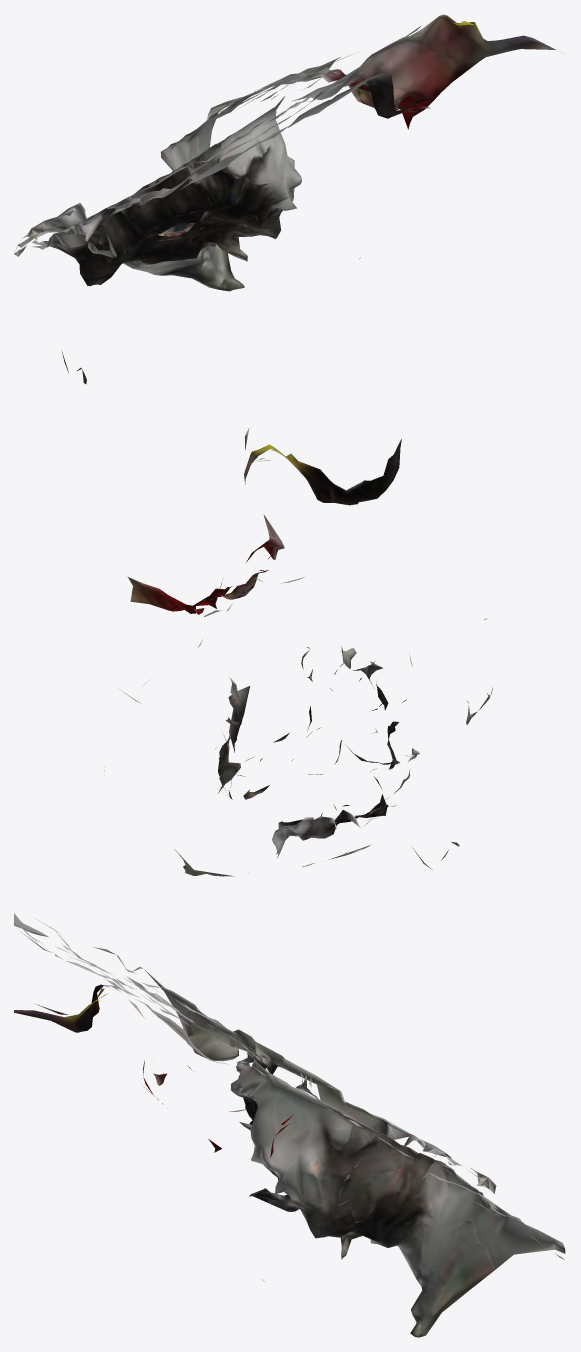
Rendered from hall.glb.
The picture shows the model from 3 angles, top to bottom: view 1: azimuth 30°, elevation 25°; view 2: azimuth 150°, elevation 25°; view 3: azimuth 270°, elevation 25°; orthographic projection. The views are drawn at different scales.
Size of the model in its own units: 1.73 by 1.64 by 2.19.
Materials: 1 (1 with a texture image).
